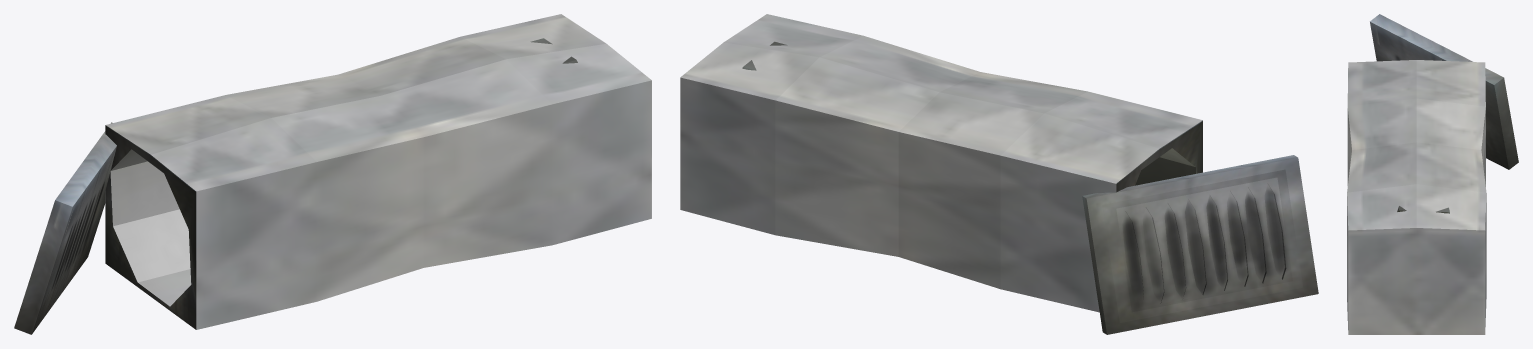
File: Vent.fbx
3 renders of one model, left to right at view 1: azimuth 30°, elevation 25°; view 2: azimuth 150°, elevation 25°; view 3: azimuth 270°, elevation 25°, orthographic. The views are drawn at different scales.
Visible parts, largest first — view 1: Tube, Vent; view 2: Tube, Vent; view 3: Tube, Vent.
Boxes of the visible parts, x1,y1,x2,y2 form: Tube: [105, 14, 651, 329]; Vent: [14, 122, 116, 334]; Tube: [680, 14, 1202, 312]; Vent: [1082, 155, 1318, 334]; Tube: [1347, 60, 1486, 334]; Vent: [1370, 14, 1518, 169].
Size of the model in its own units: 17.19 by 4.29 by 5.58.
Materials: 2 (2 with a texture image).
